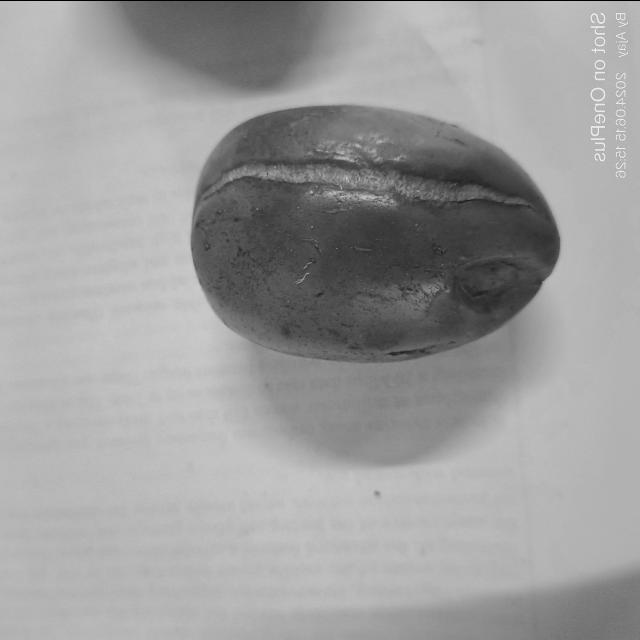tomato_cracking: (183, 155, 525, 214)
